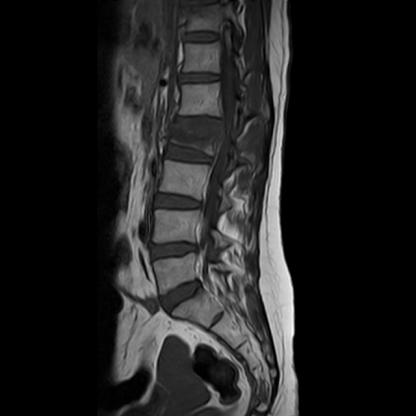Annular Tearrotation: (158, 281, 213, 310)
Fracturerotation: (158, 113, 233, 168)
